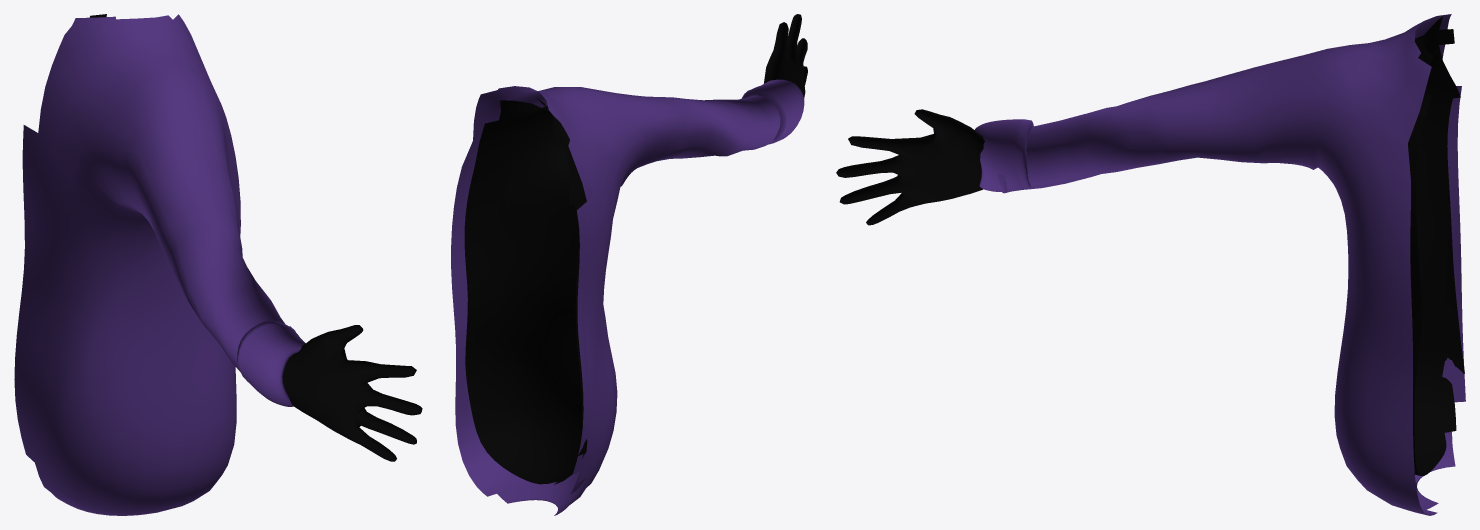
The model's file is character.fbx.
3 views of the same model, side by side, from view 1: azimuth 30°, elevation 25°; view 2: azimuth 150°, elevation 25°; view 3: azimuth 270°, elevation 25° (orthographic). The views are drawn at different scales.
Visible parts, largest first — view 1: polySurface7; view 2: polySurface7; view 3: polySurface7.
Boxes of the visible parts, x1,y1,x2,y2 form: polySurface7: (14, 14, 422, 515); polySurface7: (451, 14, 807, 515); polySurface7: (836, 14, 1465, 515).
Size of the model in its own units: 1.03 by 2.44 by 2.97.
